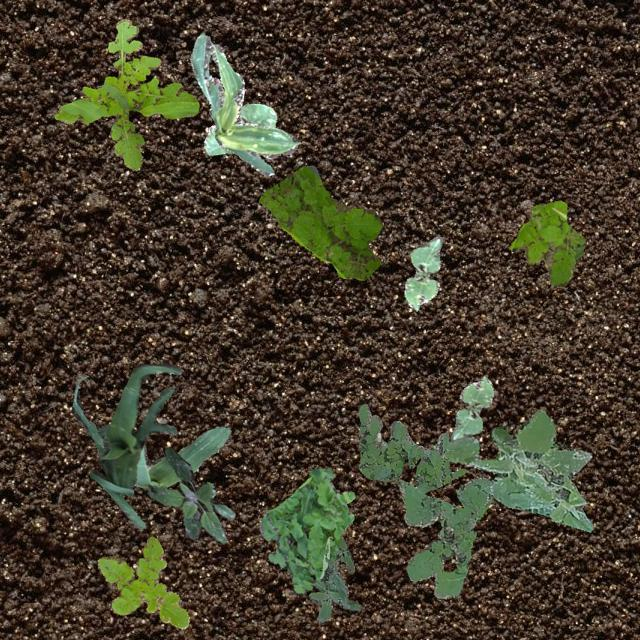crop: (70, 377, 230, 488), (190, 31, 298, 176), (88, 362, 180, 528), (202, 102, 276, 154), (404, 236, 442, 310), (450, 374, 492, 440)
weed: (52, 19, 198, 170), (446, 408, 592, 532), (258, 164, 382, 278), (258, 468, 354, 594), (396, 477, 492, 598), (358, 402, 464, 492), (96, 536, 188, 628), (146, 448, 234, 542), (286, 534, 359, 622), (510, 200, 584, 286), (374, 432, 388, 444)
